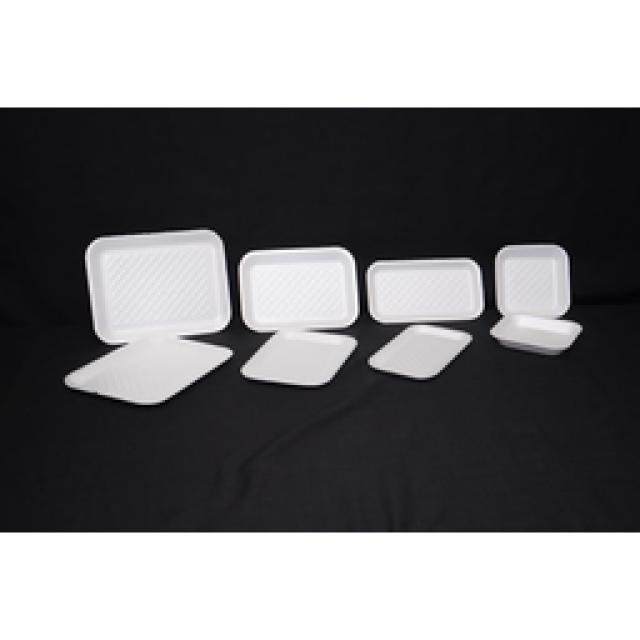styrofoam: (68, 230, 230, 402), (242, 248, 358, 385), (368, 258, 480, 378), (490, 245, 580, 352)
